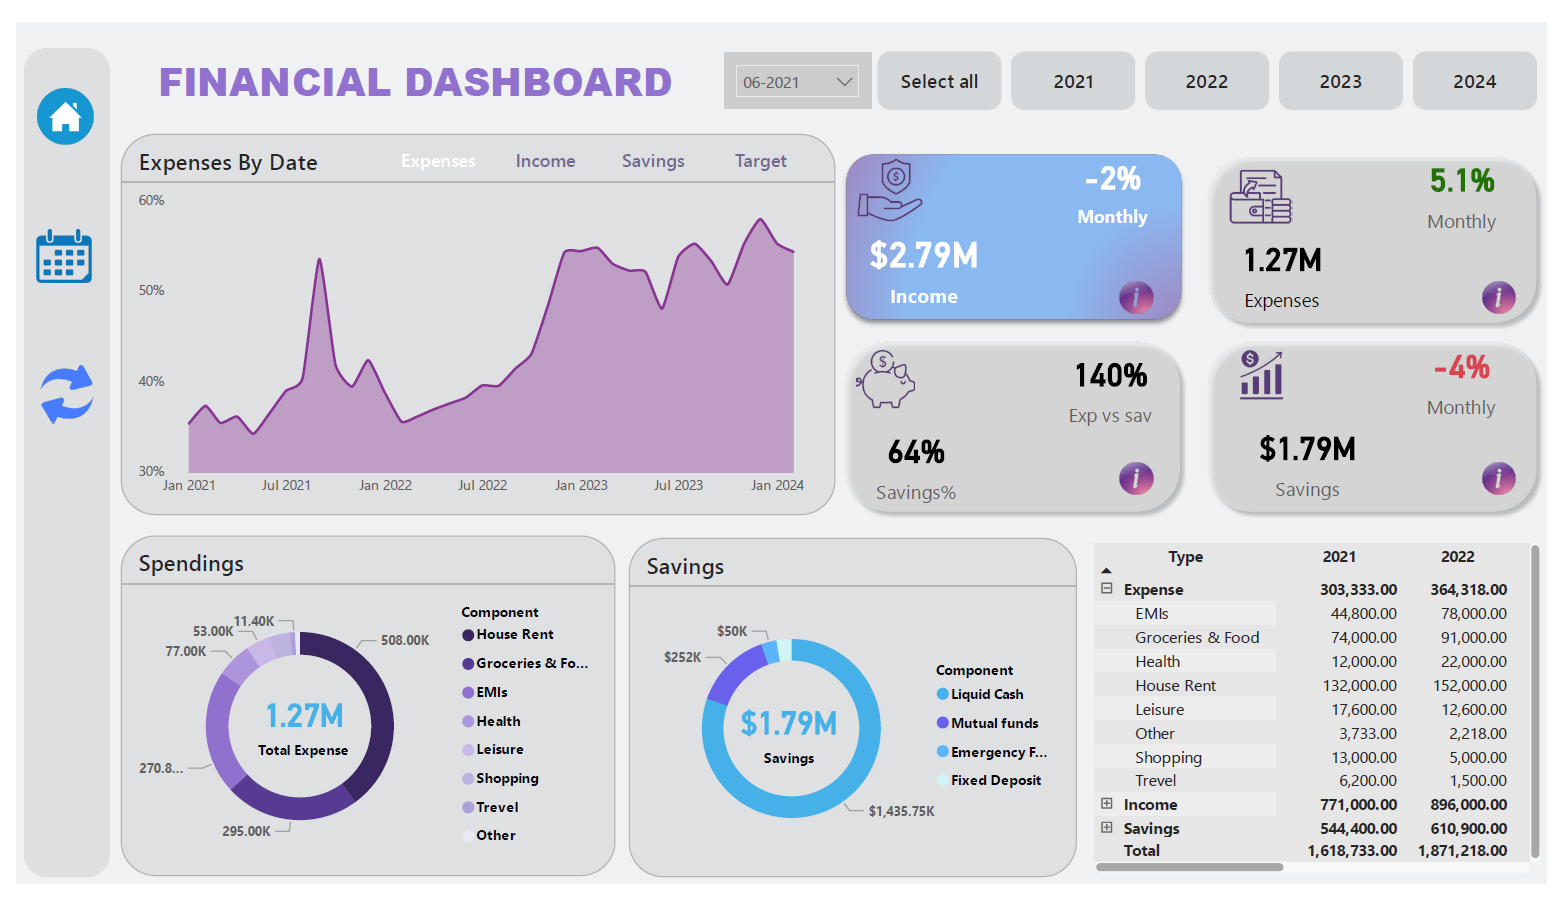

What the dashboard file says about the page in this screenshot:
{"tool":"powerbi","page":{"name":"report","canvas":[1280,720],"ordinal":1},"visuals":[{"type":"image","box":[684.7,32.9,299.1,299.1],"z":0},{"type":"shape","box":[6,20.5,72.4,694.9],"z":1000},{"type":"image","box":[6,41,68.8,73.6],"z":2000},{"type":"image","box":[5,165.1,69.5,59.6],"z":3000},{"type":"shape","box":[989.4,259.3,290.9,157.8],"z":4000},{"type":"image","box":[0,282.3,84.5,57.9],"z":5000},{"type":"shape","box":[989.4,104.3,290.9,155.1],"z":6000},{"type":"card","fields":{"Values":["dataset.Savings"]},"box":[974.3,311.5,211.3,109.8],"z":7000},{"type":"shape","box":[684.7,259.3,296.4,157.8],"z":8000},{"type":"card","fields":{"Values":["dataset.Income"]},"box":[695.7,156.4,126.2,94.7],"z":9000},{"type":"card","fields":{"Values":["dataset.Expenses"]},"box":[999,164.7,119.4,86.4],"z":10000},{"type":"card","fields":{"Values":["dataset.Savings%"]},"box":[672.4,323.8,160.5,89.2],"z":11000},{"type":"advancedSlicerVisual","fields":{"Values":["dataset.Year"]},"box":[715.2,19.3,564.4,59.1],"z":12000},{"type":"donutChart","title":"Spendings","fields":{"Category":["dataset.Component"],"Y":["dataset.Expenses"]},"box":[86.9,429.5,413.8,284.7],"z":13000},{"type":"donutChart","title":"Savings ","fields":{"Category":["dataset.Component"],"Y":["dataset.Savings"]},"box":[511.5,430.7,375.2,284.7],"z":14000},{"type":"pivotTable","fields":{"Rows":["dataset.Type","dataset.Component"],"Values":["dataset.Total_value"],"Columns":["dataset.Year"]},"box":[896.5,430.9,383.2,284.9],"z":15000},{"type":"textbox","box":[113.4,20.5,451.1,72.4],"z":18000},{"type":"slicer","fields":{"Values":["selected_date.Month"]},"box":[592.4,25.3,123.1,47.1],"z":19000},{"type":"card","fields":{"Values":["dataset.Income_Monthly_Growth"]},"box":[849,95.6,135.3,85.6],"z":20000},{"type":"card","fields":{"Values":["dataset.Expenses_Monthly_Growth"]},"box":[1138.3,95.6,141.5,91.9],"z":21000},{"type":"card","fields":{"Values":["dataset.Savings_Monthly_Growth"]},"box":[1143.7,242.5,129.1,111],"z":22000},{"type":"card","fields":{"Values":["dataset.ex_vs_sav"]},"box":[839.7,259.4,150.8,90.5],"z":23000},{"type":"card","fields":{"Values":["dataset.Expenses"]},"box":[174.9,534.5,130.3,103.8],"z":24000},{"type":"card","fields":{"Values":["dataset.Savings"]},"box":[592.4,546.5,107.4,91.7],"z":25000},{"type":"image","box":[1018.2,269,48,50.8],"z":26000},{"type":"image","box":[694.3,269,64.5,59],"z":27000},{"type":"image","box":[1008.6,115.3,64.5,59],"z":28000},{"type":"image","box":[684.7,107,87.8,67.2],"z":29000},{"type":"image","box":[915.3,359.5,43.9,42.5],"z":30000},{"type":"image","box":[1218.5,359.5,43.9,42.5],"z":31000},{"type":"image","box":[1218.5,208.6,43.9,42.5],"z":32000},{"type":"image","box":[915.3,208.6,43.9,42.5],"z":33000},{"type":"actionButton","box":[17.4,175,44.7,44.7],"z":34000},{"type":"actionButton","box":[14.9,281.8,52.1,50.9],"z":36000},{"type":"actionButton","box":[8.9,53.4,62.3,50.4],"z":37000},{"type":"areaChart","fields":{"Category":["dataset.Date"],"Y":["dataset.Line_chart_mesure"]},"box":[87.5,93.4,597.6,318.8],"z":38000},{"type":"advancedSlicerVisual","fields":{"Values":["Line_selection_table.Type"]},"box":[305.4,93.1,367.4,43.4],"z":38500}]}

Visuals, with their boxes in screenshot pixels (x1, y1, x2, y2), scaled from the page's 1280x720 canvas onto the 1561x898 screenshot:
image: (835,41,1200,414)
shape: (7,26,96,892)
image: (7,51,91,143)
image: (6,206,91,280)
shape: (1207,323,1560,520)
image: (0,352,103,424)
shape: (1207,130,1560,324)
card - dataset.Savings: (1188,389,1446,525)
shape: (835,323,1196,520)
card - dataset.Income: (848,195,1002,313)
card - dataset.Expenses: (1218,205,1364,313)
card - dataset.Savings%: (820,404,1016,515)
advancedSlicerVisual - dataset.Year: (872,24,1560,98)
"Spendings" donutChart: (106,536,611,891)
"Savings " donutChart: (624,537,1081,892)
pivotTable - dataset.Type x dataset.Component: (1093,537,1560,893)
textbox: (138,26,688,116)
slicer - selected_date.Month: (722,32,873,90)
card - dataset.Income_Monthly_Growth: (1035,119,1200,226)
card - dataset.Expenses_Monthly_Growth: (1388,119,1560,234)
card - dataset.Savings_Monthly_Growth: (1395,302,1552,441)
card - dataset.ex_vs_sav: (1024,324,1208,436)
card - dataset.Expenses: (213,667,372,796)
card - dataset.Savings: (722,682,853,796)
image: (1242,336,1300,399)
image: (847,336,925,409)
image: (1230,144,1309,217)
image: (835,133,942,217)
image: (1116,448,1170,501)
image: (1486,448,1540,501)
image: (1486,260,1540,313)
image: (1116,260,1170,313)
actionButton: (21,218,76,274)
actionButton: (18,351,82,415)
actionButton: (11,67,87,129)
areaChart - dataset.Date x dataset.Line_chart_mesure: (107,116,836,514)
advancedSlicerVisual - Line_selection_table.Type: (372,116,821,170)
